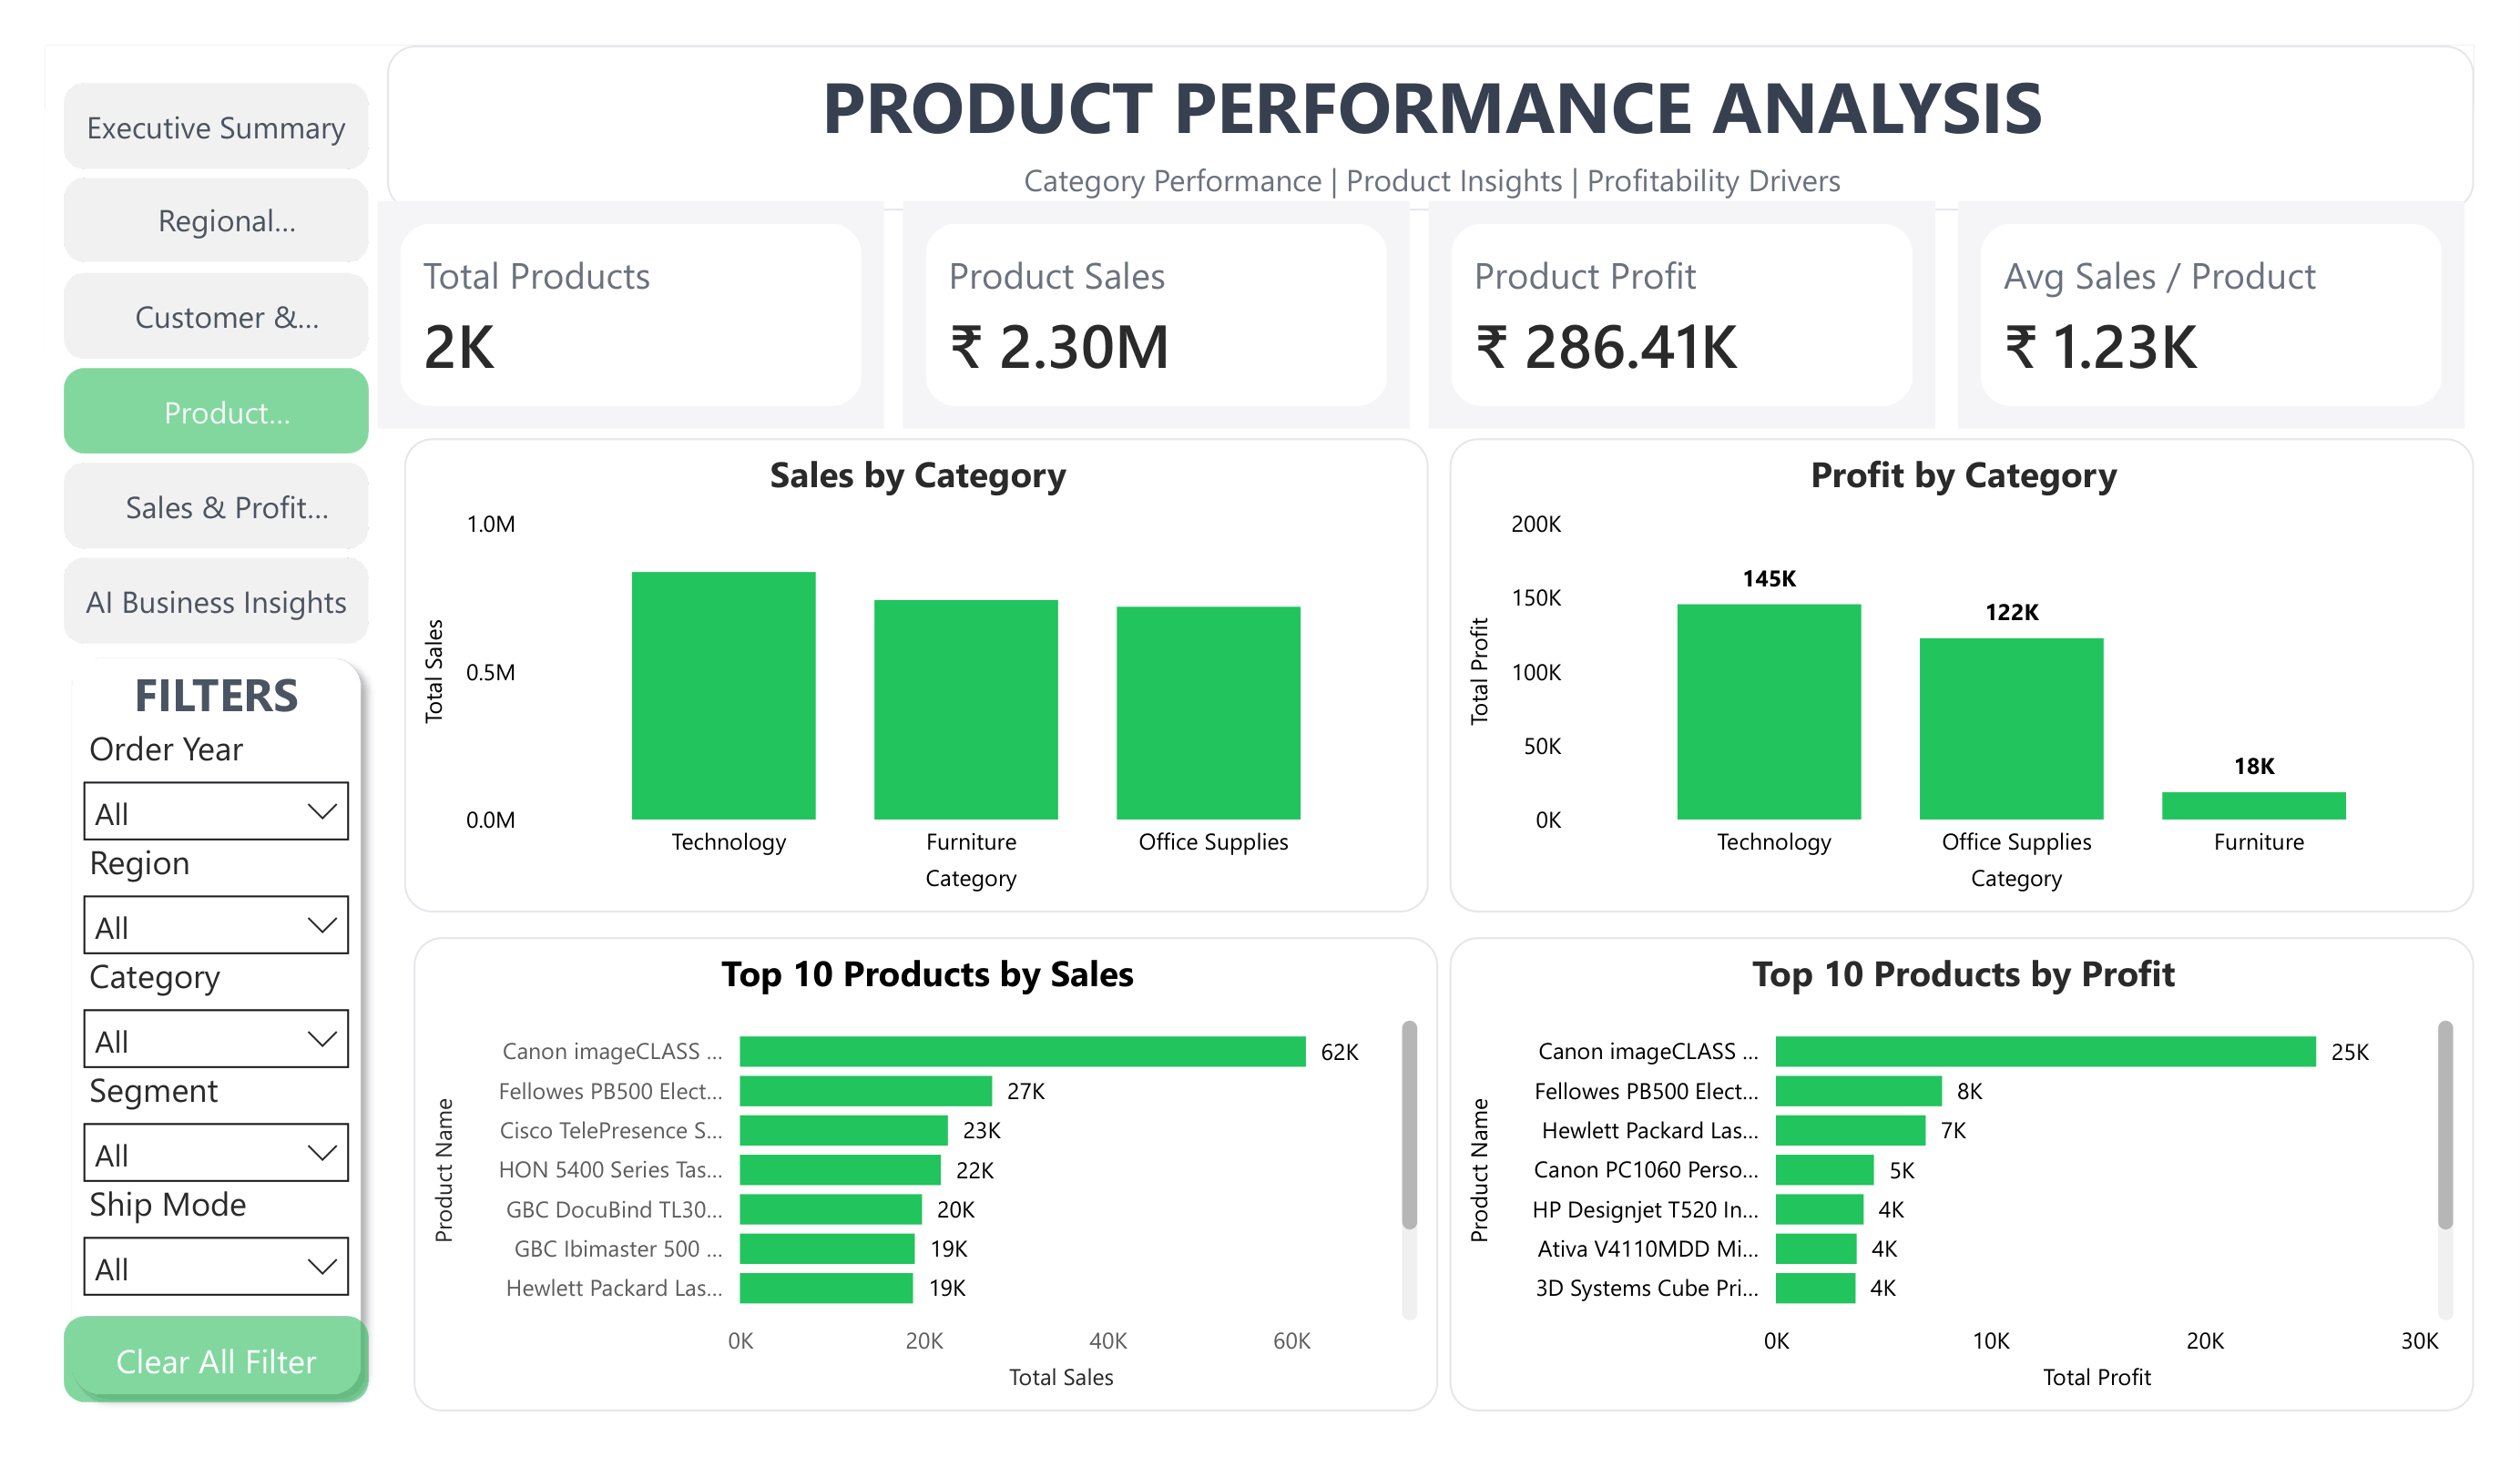

Layout of this report page (visuals, bound fields, positions):
{"tool":"powerbi","page":{"name":"Product Performance Analysis","canvas":[1280,720],"ordinal":3},"visuals":[{"type":"textbox","title":"PRODUCT PERFORMANCE ANALYSIS","box":[180,0,1100,87.1],"z":0},{"type":"shape","box":[0,0,180,720],"z":1000},{"type":"actionButton","box":[10,70,160,44.3],"z":2000},{"type":"actionButton","box":[10,120,160,45],"z":3000},{"type":"actionButton","box":[10,170,160,45],"z":4000},{"type":"actionButton","box":[10,220,160,45],"z":5000},{"type":"actionButton","box":[10,270,160,45],"z":6000},{"type":"actionButton","box":[10,20,160,45],"z":7000},{"type":"shape","box":[5,314.3,170,405.7],"z":8000},{"type":"actionButton","box":[10,670,160,45],"z":9000},{"type":"slicer","fields":{"Values":["cleaned_superstore.Region"]},"box":[10,412.9,160,70],"z":10000},{"type":"slicer","fields":{"Values":["cleaned_superstore.Category"]},"box":[10,472.9,160,70],"z":11000},{"type":"slicer","fields":{"Values":["cleaned_superstore.Ship Mode"]},"box":[10,592.9,160,70],"z":12000},{"type":"slicer","fields":{"Values":["cleaned_superstore.Segment"]},"box":[10,532.9,160,70],"z":13000},{"type":"slicer","fields":{"Values":["cleaned_superstore.Order Year"]},"box":[10,352.9,160,70],"z":14000},{"type":"textbox","box":[10,320,160,46],"z":15000},{"type":"clusteredColumnChart","title":"Sales by Category","fields":{"Category":["cleaned_superstore.Category"],"Y":["Measures_table.Total Sales"]},"box":[188.6,207.1,540,250],"z":16000},{"type":"clusteredColumnChart","title":"Profit by Category","fields":{"Y":["Measures_table.Total Profit"],"Category":["cleaned_superstore.Category"]},"box":[740,207.1,540,250],"z":17000},{"type":"barChart","title":"Top 10 Products by Sales","fields":{"Y":["Measures_table.Total Sales"],"Category":["cleaned_superstore.Product Name"]},"box":[194.3,470,540,250],"z":18000},{"type":"clusteredBarChart","title":"Top 10 Products by Profit","fields":{"Y":["Measures_table.Total Profit"],"Category":["cleaned_superstore.Product Name"]},"box":[740,470,540,250],"z":19000},{"type":"cardVisual","fields":{"Data":["Measures_table.Total Products"]},"box":[170,77.1,277,130],"z":20000},{"type":"cardVisual","fields":{"Data":["Measures_table.Total Sales"]},"box":[447.1,77.1,277.1,130],"z":21000},{"type":"cardVisual","fields":{"Data":["Measures_table.Total Profit"]},"box":[724.3,77.1,277.1,130],"z":22000},{"type":"cardVisual","fields":{"Data":["Measures_table.Average Sales per Product"]},"box":[1002.9,77.1,277.1,130],"z":23000}]}

Visuals, with their boxes on the page's 1280x720 design canvas (x1, y1, x2, y2). These are canvas units, not pixel positions in the 2520x1457 screenshot, which may show the page scaled, cropped or inside an application window:
"PRODUCT PERFORMANCE ANALYSIS" textbox: {"x1": 180, "y1": 0, "x2": 1280, "y2": 87}
shape: {"x1": 0, "y1": 0, "x2": 180, "y2": 720}
actionButton: {"x1": 10, "y1": 70, "x2": 170, "y2": 114}
actionButton: {"x1": 10, "y1": 120, "x2": 170, "y2": 165}
actionButton: {"x1": 10, "y1": 170, "x2": 170, "y2": 215}
actionButton: {"x1": 10, "y1": 220, "x2": 170, "y2": 265}
actionButton: {"x1": 10, "y1": 270, "x2": 170, "y2": 315}
actionButton: {"x1": 10, "y1": 20, "x2": 170, "y2": 65}
shape: {"x1": 5, "y1": 314, "x2": 175, "y2": 720}
actionButton: {"x1": 10, "y1": 670, "x2": 170, "y2": 715}
slicer - cleaned_superstore.Region: {"x1": 10, "y1": 413, "x2": 170, "y2": 483}
slicer - cleaned_superstore.Category: {"x1": 10, "y1": 473, "x2": 170, "y2": 543}
slicer - cleaned_superstore.Ship Mode: {"x1": 10, "y1": 593, "x2": 170, "y2": 663}
slicer - cleaned_superstore.Segment: {"x1": 10, "y1": 533, "x2": 170, "y2": 603}
slicer - cleaned_superstore.Order Year: {"x1": 10, "y1": 353, "x2": 170, "y2": 423}
textbox: {"x1": 10, "y1": 320, "x2": 170, "y2": 366}
"Sales by Category" clusteredColumnChart: {"x1": 189, "y1": 207, "x2": 729, "y2": 457}
"Profit by Category" clusteredColumnChart: {"x1": 740, "y1": 207, "x2": 1280, "y2": 457}
"Top 10 Products by Sales" barChart: {"x1": 194, "y1": 470, "x2": 734, "y2": 720}
"Top 10 Products by Profit" clusteredBarChart: {"x1": 740, "y1": 470, "x2": 1280, "y2": 720}
cardVisual - Measures_table.Total Products: {"x1": 170, "y1": 77, "x2": 447, "y2": 207}
cardVisual - Measures_table.Total Sales: {"x1": 447, "y1": 77, "x2": 724, "y2": 207}
cardVisual - Measures_table.Total Profit: {"x1": 724, "y1": 77, "x2": 1001, "y2": 207}
cardVisual - Measures_table.Average Sales per Product: {"x1": 1003, "y1": 77, "x2": 1280, "y2": 207}
